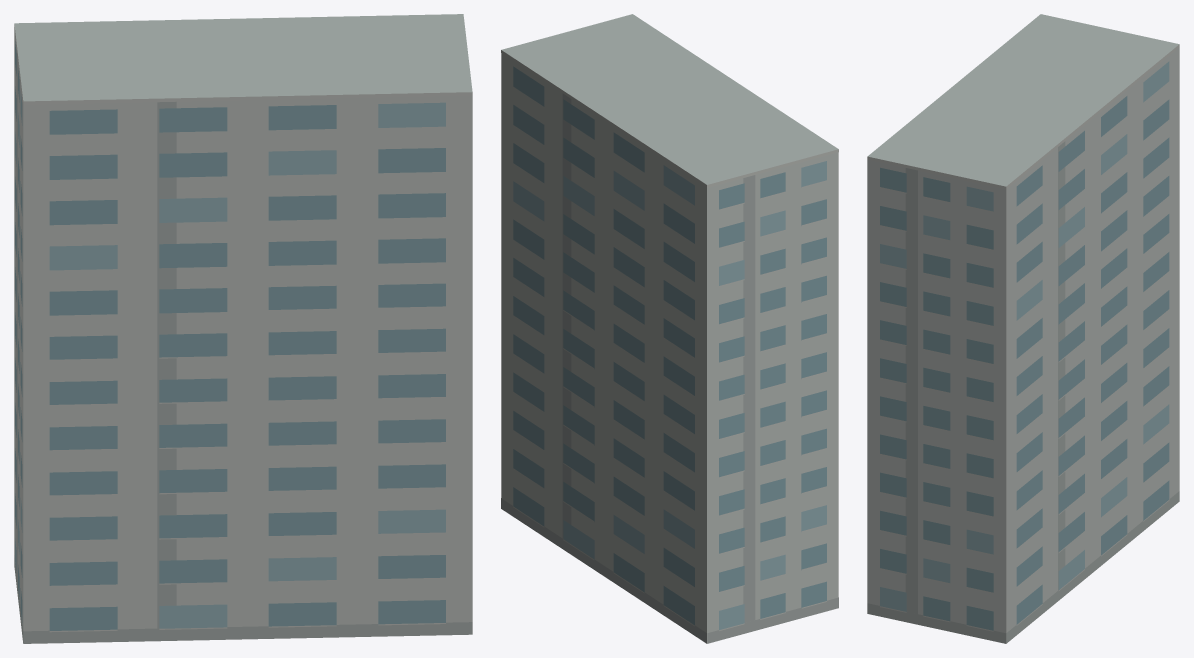
The model's file is residential-b1e3400d-de7f-4206-8fe7-d7a222bb5254.glb.
3 renders of one model, left to right at view 1: azimuth 30°, elevation 25°; view 2: azimuth 150°, elevation 25°; view 3: azimuth 270°, elevation 25°, orthographic. The views are drawn at different scales.
Visible parts, largest first — view 1: residential-b1e3400d-de7f-4206-8fe7-d7a222bb5254.tmp; view 2: residential-b1e3400d-de7f-4206-8fe7-d7a222bb5254.tmp; view 3: residential-b1e3400d-de7f-4206-8fe7-d7a222bb5254.tmp.
Boxes of the visible parts, x1=… form: residential-b1e3400d-de7f-4206-8fe7-d7a222bb5254.tmp: x1=14, y1=14, x2=472, y2=643; residential-b1e3400d-de7f-4206-8fe7-d7a222bb5254.tmp: x1=501, y1=14, x2=838, y2=643; residential-b1e3400d-de7f-4206-8fe7-d7a222bb5254.tmp: x1=867, y1=14, x2=1179, y2=643.
Bounding box in the file's own units: 29.96 × 37 × 22.9.
